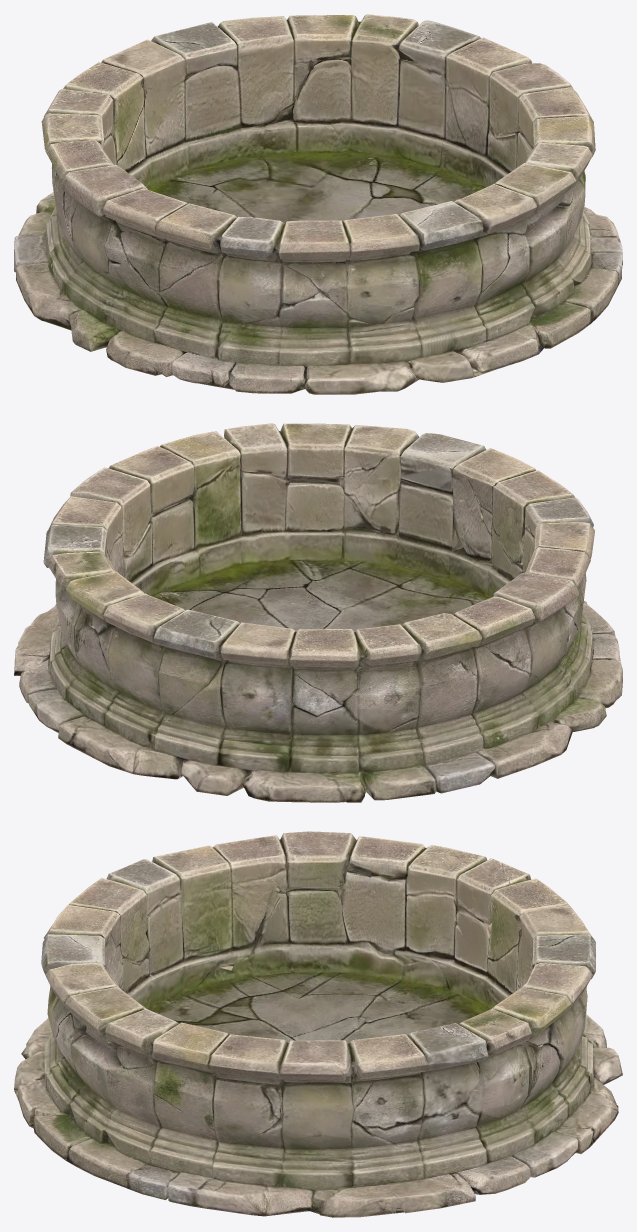
The model's file is fountain_dry.glb.
The picture shows the model from 3 angles, top to bottom: view 1: azimuth 30°, elevation 25°; view 2: azimuth 150°, elevation 25°; view 3: azimuth 270°, elevation 25°; orthographic projection.
Parts seen in each view (by area): view 1: Mesh_0; view 2: Mesh_0; view 3: Mesh_0.
Part boxes in pixels (x1,y1,x2,y2): Mesh_0: (14,14,622,394); Mesh_0: (14,423,622,802); Mesh_0: (14,831,622,1217).
Size of the model in its own units: 1.9 by 0.4867 by 1.89.
1 material, 1 textured.
